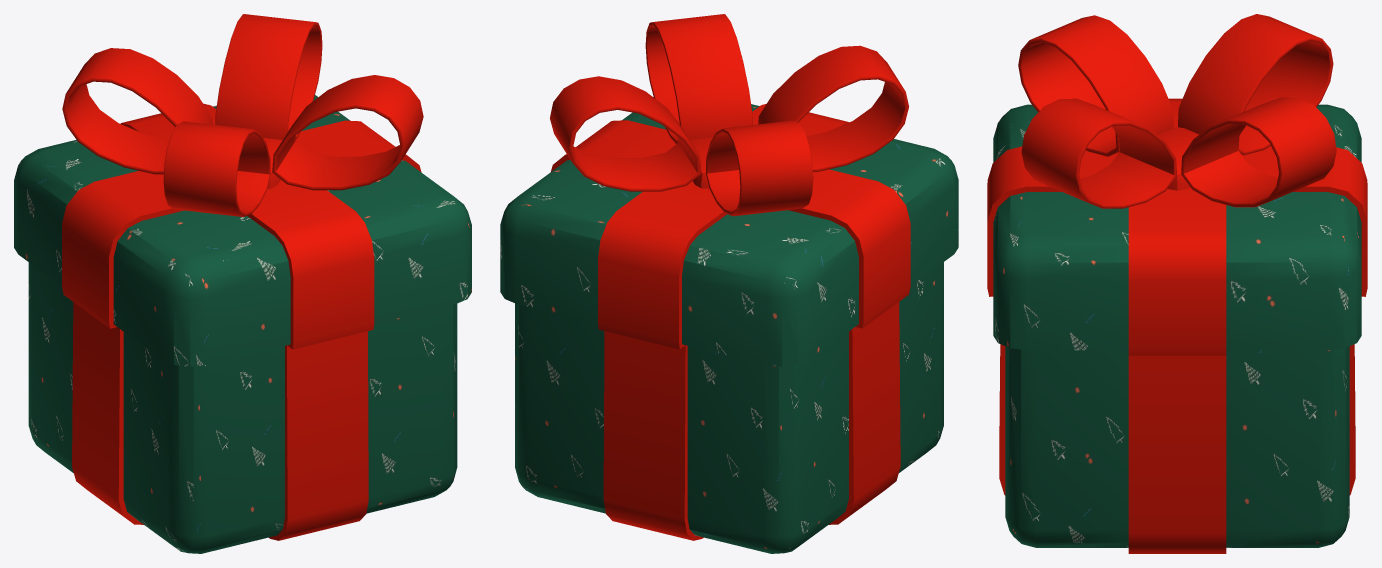
File: gift_box3.fbx
3 renders of one model, left to right at view 1: azimuth 30°, elevation 25°; view 2: azimuth 150°, elevation 25°; view 3: azimuth 270°, elevation 25°, orthographic. The views are drawn at different scales.
Parts seen in each view (by area): view 1: Gift_box 2; view 2: Gift_box 2; view 3: Gift_box 2.
Boxes of the visible parts, x1,y1,x2,y2 form: Gift_box 2: (14, 14, 471, 553); Gift_box 2: (500, 14, 958, 553); Gift_box 2: (987, 14, 1367, 553).
Bounding box in the file's own units: 206 × 252 × 206.
Materials: 2 (1 with a texture image).
